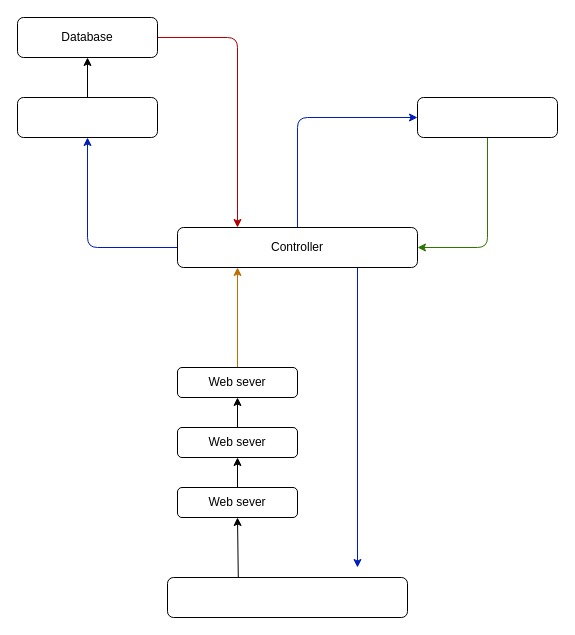
Image size: 575x635. Some labels were removed from this diagram. Here are the shapes that lost their labels. From the top down, the box of each, then its label:
(16, 96, 158, 138): Model
(416, 96, 558, 138): View
(166, 576, 408, 618): Browser- Client
